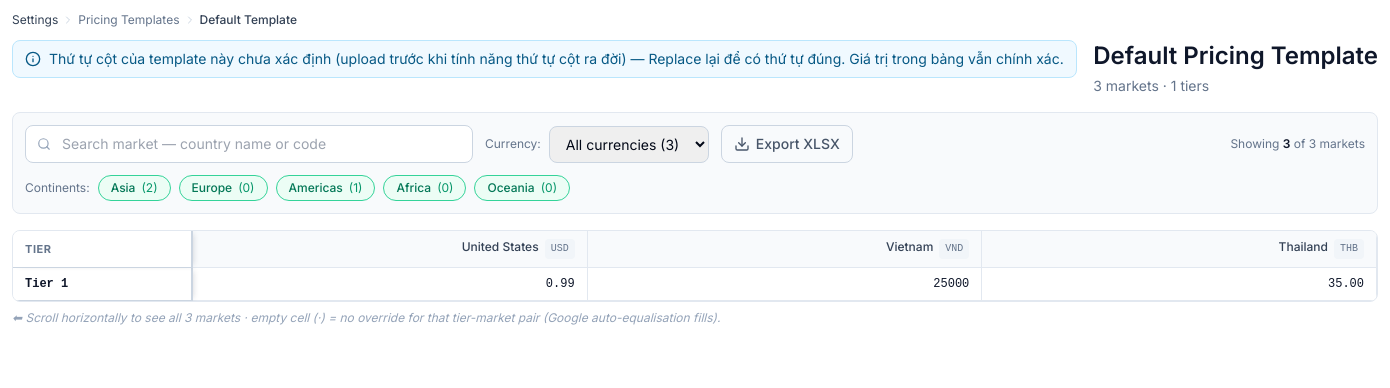
Test case: lỗi route hiện ra ĐỌC ĐƯỢC, không nuốt thành toast chung › 409 → hiện TÊN nước lạ, lấy từ unknownRegionCodes
What coordinates should you click on to do the following:
click the button "Export XLSX"
I would click on:
 (787, 144)
Its box is [721,125,853,163].
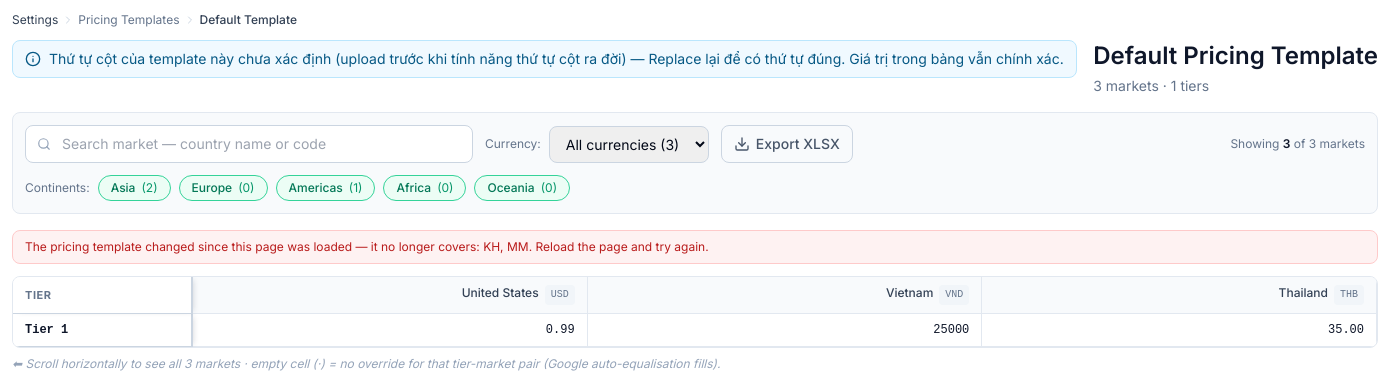
Now the message shows "KH, MM", box [25,239,709,254]
Now the message shows "reload", box [25,239,709,254]
